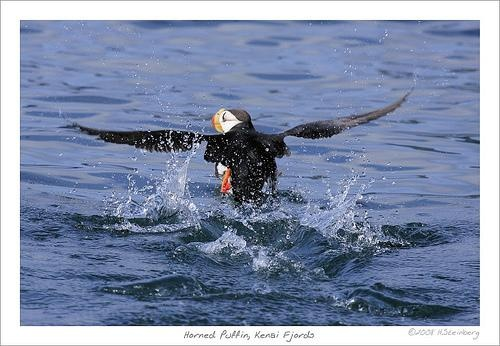bird: (66, 80, 423, 208)
